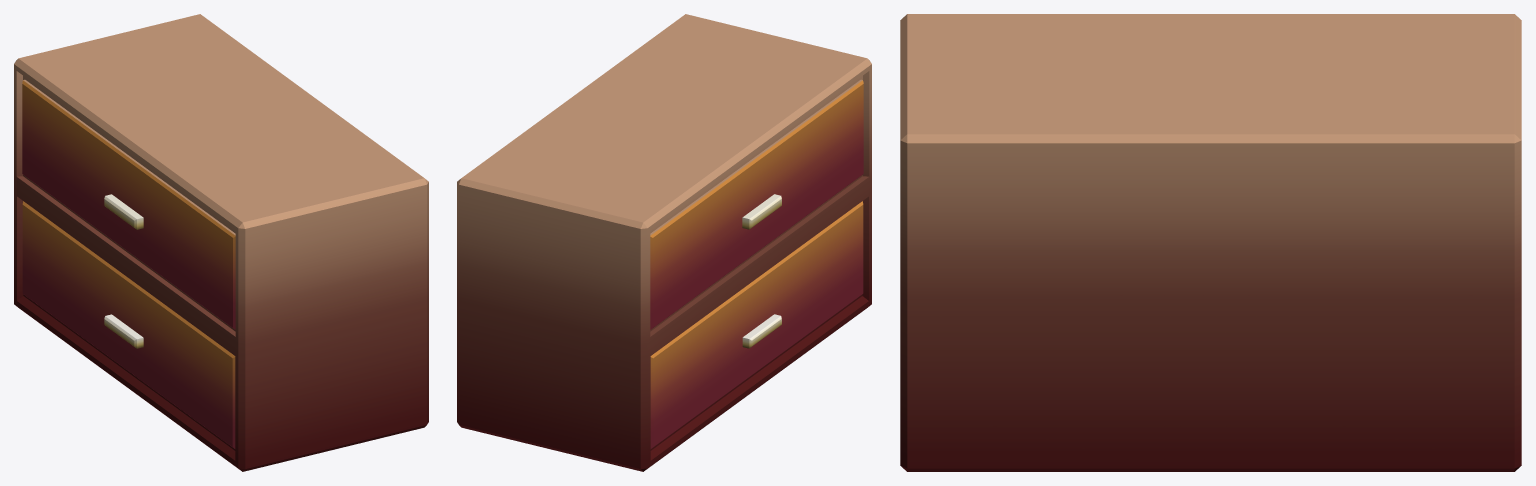
The model's file is Drawer.fbx.
3 views of the same model, side by side, from view 1: azimuth 30°, elevation 25°; view 2: azimuth 150°, elevation 25°; view 3: azimuth 270°, elevation 25° (orthographic). The views are drawn at different scales.
Parts seen in each view (by area): view 1: Cube.002; view 2: Cube.002; view 3: Cube.002.
Part boxes in pixels (x1,y1,x2,y2): Cube.002: (14,14,428,471); Cube.002: (457,14,871,471); Cube.002: (900,14,1521,471).
Size of the model in its own units: 99.51 by 120 by 200.
